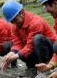boots: (18, 68, 37, 78), (0, 60, 6, 70)
hard-hat: (0, 0, 23, 23)
vest: (0, 16, 23, 68)
